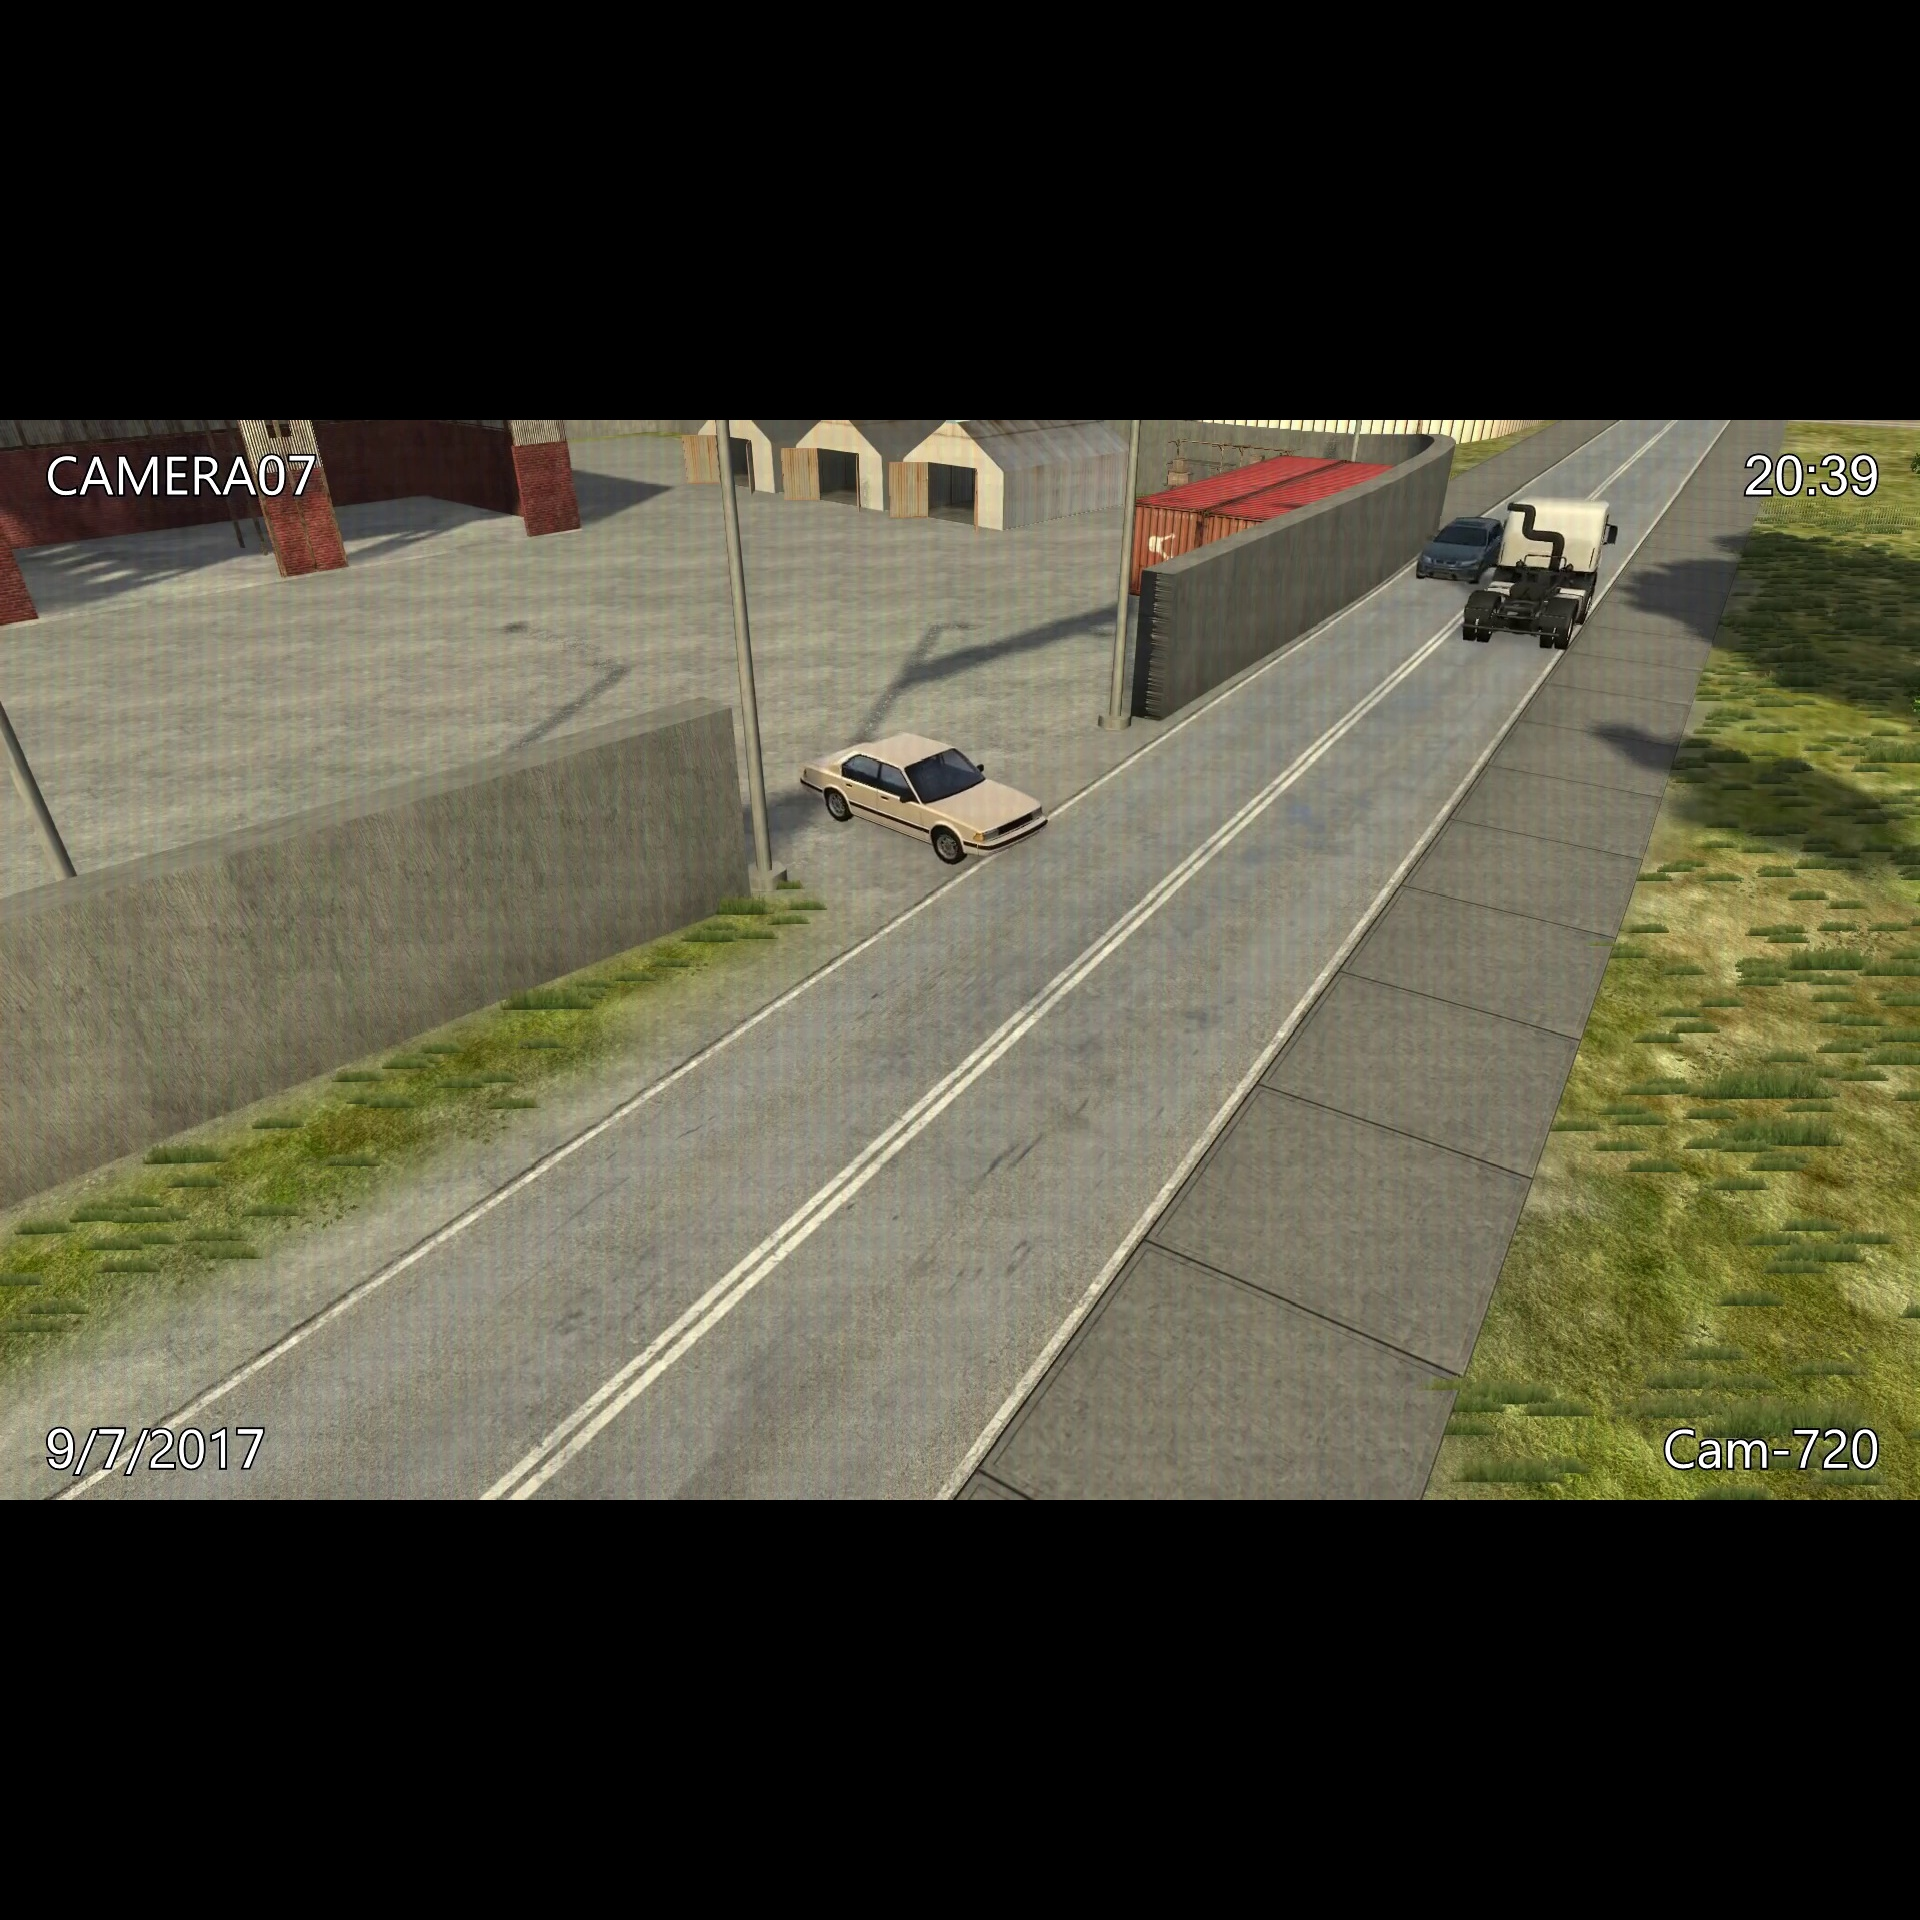vehicle: (796, 731, 1055, 863), (1461, 489, 1623, 652), (1414, 508, 1507, 587)
